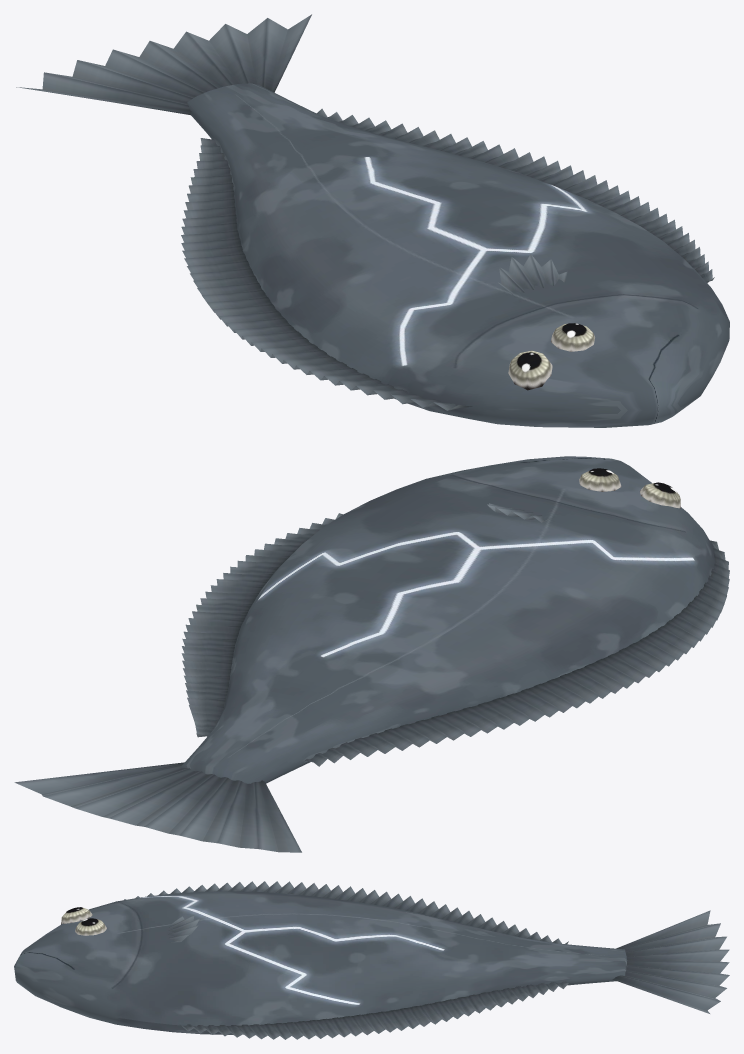
Rendered from thunderback.glb.
3 views of the same model, one above another, from view 1: azimuth 30°, elevation 25°; view 2: azimuth 150°, elevation 25°; view 3: azimuth 270°, elevation 25° (orthographic). The views are drawn at different scales.
Visible parts, largest first — view 1: thunderback; view 2: thunderback; view 3: thunderback.
Boxes of the visible parts, x1=… form: thunderback: x1=16, y1=14, x2=729, y2=427; thunderback: x1=14, y1=456, x2=729, y2=852; thunderback: x1=14, y1=881, x2=729, y2=1039.
Bounding box in the file's own units: 0.5112 × 0.1347 × 1.
Materials: 1 (1 with a texture image).
